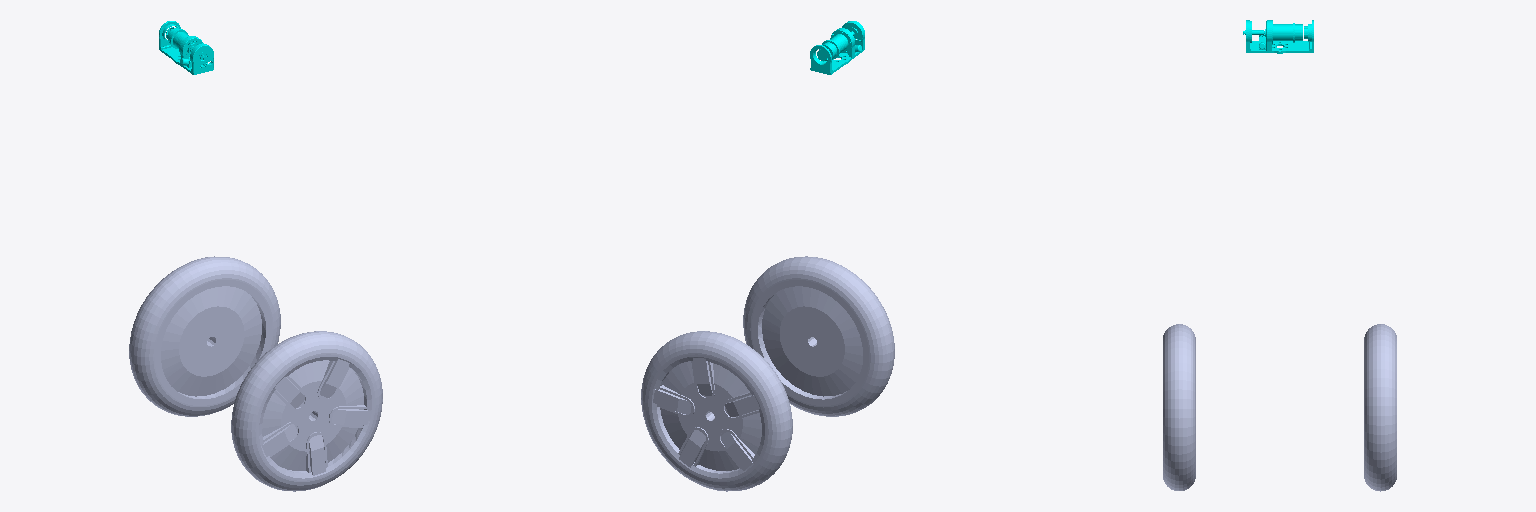
robot.urdf — HERB_BASE_URDF:
<robot
  name="HERB_BASE_URDF">
  <link
    name="herb_base">
    <inertial>
      <origin
        xyz="-0.0809027982480422 0.00803042872866252 0.350693951417865"
        rpy="0 0 0" />
      <mass
        value="118.064183849969" />
      <inertia
        ixx="9.67307679892718"
        ixy="-0.109440074935232"
        ixz="-2.47806317387667"
        iyy="10.2602519302075"
        iyz="0.237417248956334"
        izz="5.27441929623381" />
    </inertial>
    <visual>
      <origin
        xyz="0 0 0"
        rpy="0 0 0" />
      <geometry>
        <mesh
          filename="package://HERB_BASE_URDF/meshes/herb_base.STL" />
      </geometry>
      <material
        name="">
        <color
          rgba="0.792156862745098 0.819607843137255 0.933333333333333 1" />
      </material>
    </visual>
    <collision>
      <origin
        xyz="0 0 0"
        rpy="0 0 0" />
      <geometry>
        <mesh
          filename="package://HERB_BASE_URDF/meshes/herb_base.STL" />
      </geometry>
    </collision>
  </link>
  <link
    name="segway_wheel_left">
    <inertial>
      <origin
        xyz="1.46252801536129E-12 4.14215883814961E-12 0.0471293756901144"
        rpy="0 0 0" />
      <mass
        value="6.7355511743555" />
      <inertia
        ixx="0.092576479522193"
        ixy="-2.98851956896402E-06"
        ixz="1.06719826192435E-09"
        iyy="0.0925839088729686"
        iyz="3.02916843456587E-09"
        izz="0.178365793214305" />
    </inertial>
    <visual>
      <origin
        xyz="0 0 0"
        rpy="0 0 0" />
      <geometry>
        <mesh
          filename="package://HERB_BASE_URDF/meshes/segway_wheel_left.STL" />
      </geometry>
      <material
        name="">
        <color
          rgba="0.792156862745098 0.819607843137255 0.933333333333333 1" />
      </material>
    </visual>
    <collision>
      <origin
        xyz="0 0 0"
        rpy="0 0 0" />
      <geometry>
        <mesh
          filename="package://HERB_BASE_URDF/meshes/segway_wheel_left.STL" />
      </geometry>
    </collision>
  </link>
  <joint
    name="segway_wheel_left"
    type="continuous">
    <origin
      xyz="0 0.231771918932663 0.23158735611353"
      rpy="-1.5707963267949 -0.115508699092541 0" />
    <parent
      link="herb_base" />
    <child
      link="segway_wheel_left" />
    <axis
      xyz="0 0 -1" />
  </joint>
  <link
    name="segway_wheel_right">
    <inertial>
      <origin
        xyz="-1.06512021424976E-15 4.39884240144295E-12 0.0471293756901144"
        rpy="0 0 0" />
      <mass
        value="6.7355511743555" />
      <inertia
        ixx="0.0925754265920571"
        ixy="-1.49287030220407E-10"
        ixz="-1.57504574648507E-16"
        iyy="0.0925849618031043"
        iyz="3.21166212934922E-09"
        izz="0.178365793214305" />
    </inertial>
    <visual>
      <origin
        xyz="0 0 0"
        rpy="0 0 0" />
      <geometry>
        <mesh
          filename="package://HERB_BASE_URDF/meshes/segway_wheel_right.STL" />
      </geometry>
      <material
        name="">
        <color
          rgba="0.792156862745098 0.819607843137255 0.933333333333333 1" />
      </material>
    </visual>
    <collision>
      <origin
        xyz="0 0 0"
        rpy="0 0 0" />
      <geometry>
        <mesh
          filename="package://HERB_BASE_URDF/meshes/segway_wheel_right.STL" />
      </geometry>
    </collision>
  </link>
  <joint
    name="segway_wheel_right"
    type="continuous">
    <origin
      xyz="0 -0.231771918932663 0.231587356113537"
      rpy="-1.5707963267949 0.0751085369855802 3.14159265358979" />
    <parent
      link="herb_base" />
    <child
      link="segway_wheel_right" />
    <axis
      xyz="0 0 1" />
  </joint>
  <link
    name="head/wam1">
    <inertial>
      <origin
        xyz="-0.000143379867888344 -0.0221150249825213 -0.0159634421249915"
        rpy="0 0 0" />
      <mass
        value="0.699914058257394" />
      <inertia
        ixx="0.00280646384099311"
        ixy="6.06589910190362E-06"
        ixz="1.10356402708704E-06"
        iyy="0.000592185892279803"
        iyz="-0.000170166312219621"
        izz="0.00264000882290309" />
    </inertial>
    <visual>
      <origin
        xyz="0 0 0"
        rpy="0 0 0" />
      <geometry>
        <mesh
          filename="package://HERB_BASE_URDF/meshes/head_wam1.STL" />
      </geometry>
      <material
        name="">
        <color
          rgba="0 1 1 1" />
      </material>
    </visual>
    <collision>
      <origin
        xyz="0 0 0"
        rpy="0 0 0" />
      <geometry>
        <mesh
          filename="package://HERB_BASE_URDF/meshes/head_wam1.STL" />
      </geometry>
    </collision>
  </link>
  <joint
    name="head/wam1"
    type="continuous">
    <origin
      xyz="-0.219074999999998 3.49999999989525E-05 1.2737592"
      rpy="0 0 0" />
    <parent
      link="herb_base" />
    <child
      link="head/wam1" />
    <axis
      xyz="0 0 1" />
  </joint>
  <link
    name="head/wam2">
    <inertial>
      <origin
        xyz="0.00676836020340077 0.0512494218238631 0.00803256112914554"
        rpy="0 0 0" />
      <mass
        value="1.54049400601599" />
      <inertia
        ixx="0.0067835645951359"
        ixy="-0.000318213388742608"
        ixz="-0.000190037318422281"
        iyy="0.00662131693308525"
        iyz="-0.000833945040621095"
        izz="0.00344340957107467" />
    </inertial>
    <visual>
      <origin
        xyz="0 0 0"
        rpy="0 0 0" />
      <geometry>
        <mesh
          filename="package://HERB_BASE_URDF/meshes/head_wam2.STL" />
      </geometry>
      <material
        name="">
        <color
          rgba="0.63921568627451 0.63921568627451 0.686274509803922 1" />
      </material>
    </visual>
    <collision>
      <origin
        xyz="0 0 0"
        rpy="0 0 0" />
      <geometry>
        <mesh
          filename="package://HERB_BASE_URDF/meshes/head_wam2.STL" />
      </geometry>
    </collision>
  </link>
  <joint
    name="head/wam2"
    type="continuous">
    <origin
      xyz="0 0 0"
      rpy="1.5707963267949 0 4.20797196041016E-14" />
    <parent
      link="head/wam1" />
    <child
      link="head/wam2" />
    <axis
      xyz="0 0 1" />
  </joint>
</robot>

--- Render facts (derived) ---
3 views of the same robot in one strip: view 1: azimuth 30°, elevation 25°; view 2: azimuth 150°, elevation 25°; view 3: azimuth 270°, elevation 25° (orthographic).
Model HERB_BASE_URDF with 5 links and 4 joints (4 continuous), rooted at herb_base, posed every joint at zero.
Visible links, largest first — view 1: segway_wheel_right, segway_wheel_left, head/wam1; view 2: segway_wheel_left, segway_wheel_right, head/wam1; view 3: segway_wheel_left, segway_wheel_right, head/wam1.
Link boxes in pixels (bbox=[...]): segway_wheel_right: bbox=[231, 331, 382, 491]; segway_wheel_left: bbox=[129, 256, 280, 416]; head/wam1: bbox=[159, 21, 213, 74]; segway_wheel_left: bbox=[641, 331, 792, 491]; segway_wheel_right: bbox=[743, 256, 894, 416]; head/wam1: bbox=[810, 21, 864, 74]; segway_wheel_left: bbox=[1364, 324, 1396, 491]; segway_wheel_right: bbox=[1163, 324, 1195, 490]; head/wam1: bbox=[1243, 20, 1313, 53].
Size in the robot's own frame: 0.4969 by 0.6497 by 1.31 metres.
Meshes: 5 distinct files referenced, 3 mesh visuals loaded (3 binary STL); not drawn: 2 (reference not matched to a file when rendering).